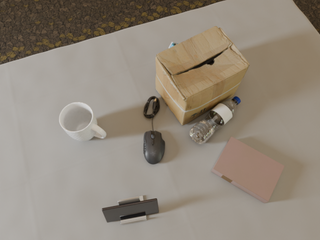book: (211, 137, 284, 203)
bottle: (189, 97, 241, 144)
box: (155, 26, 250, 125)
cup: (59, 102, 106, 141)
mouse: (143, 131, 165, 164)
phone: (102, 198, 159, 222)
